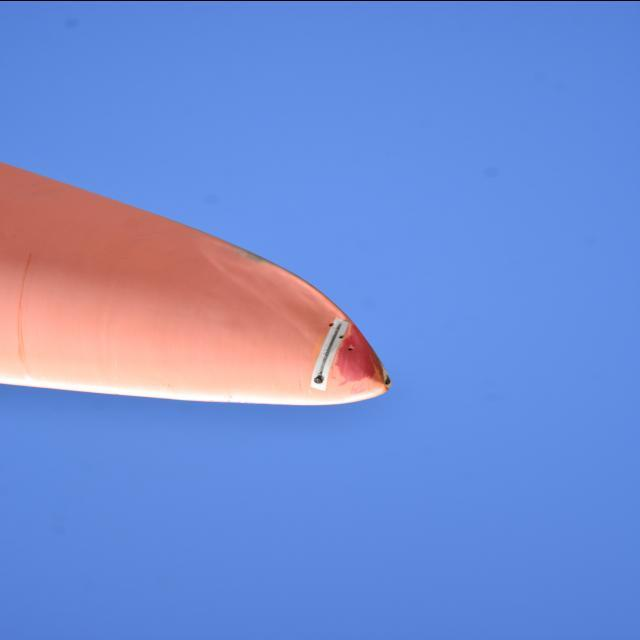Crack: (314, 317, 342, 373)
